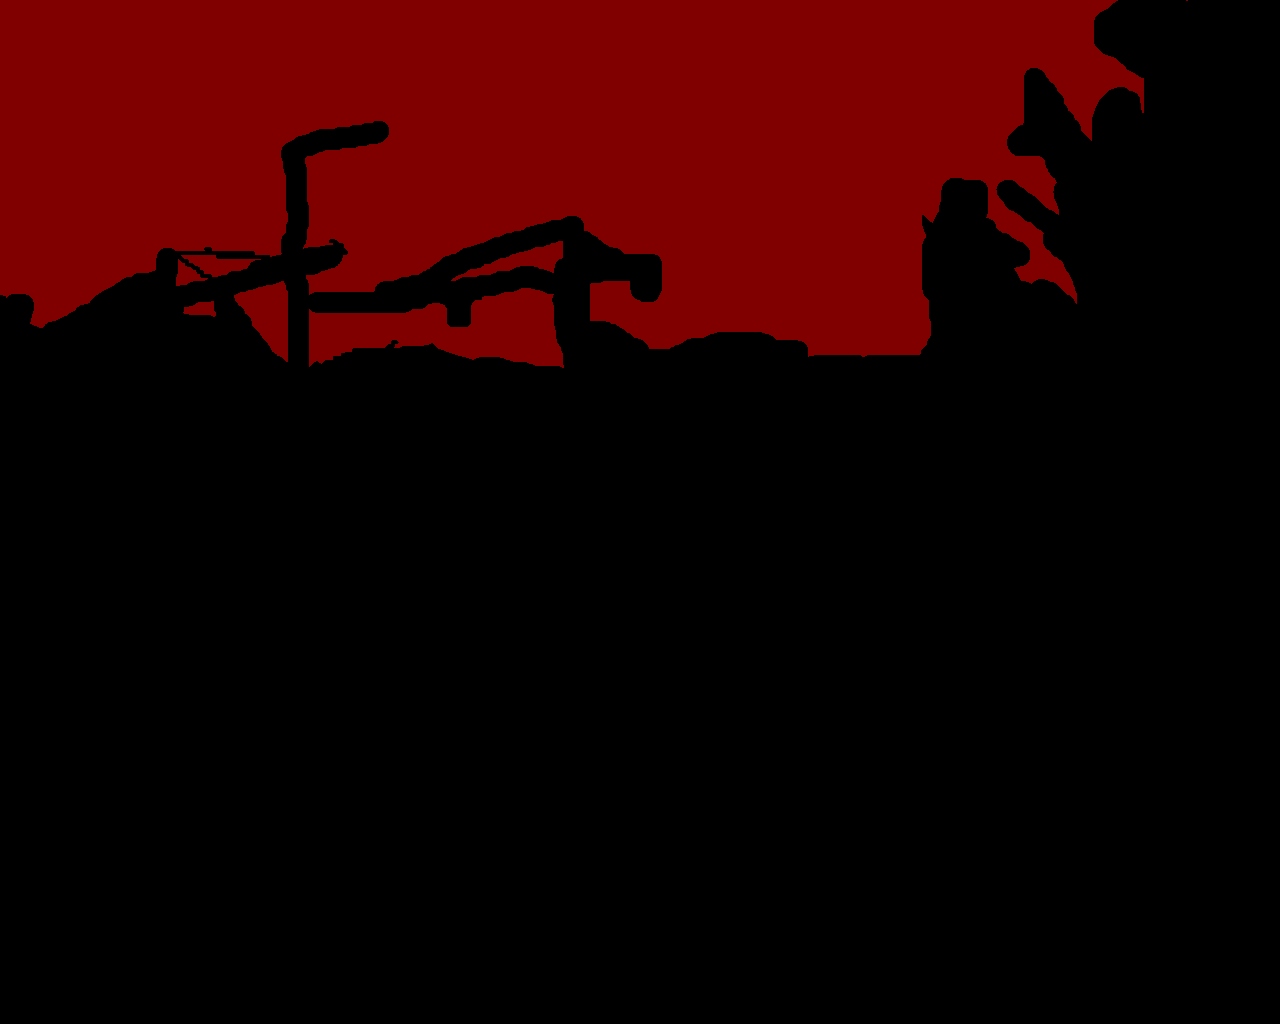Sky: (1, 1, 1187, 368)
